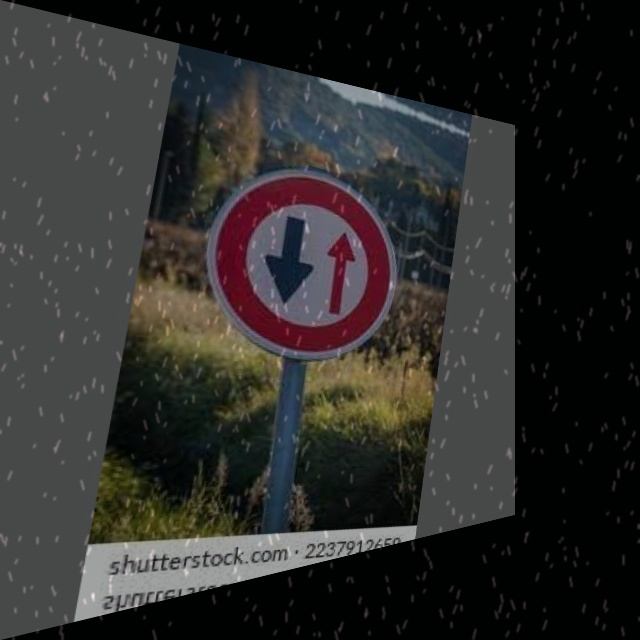Mandatory_Two_Way_Traffic: (191, 132, 418, 380)
